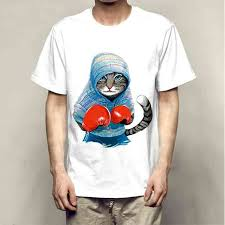cat: (93, 70, 128, 98)
